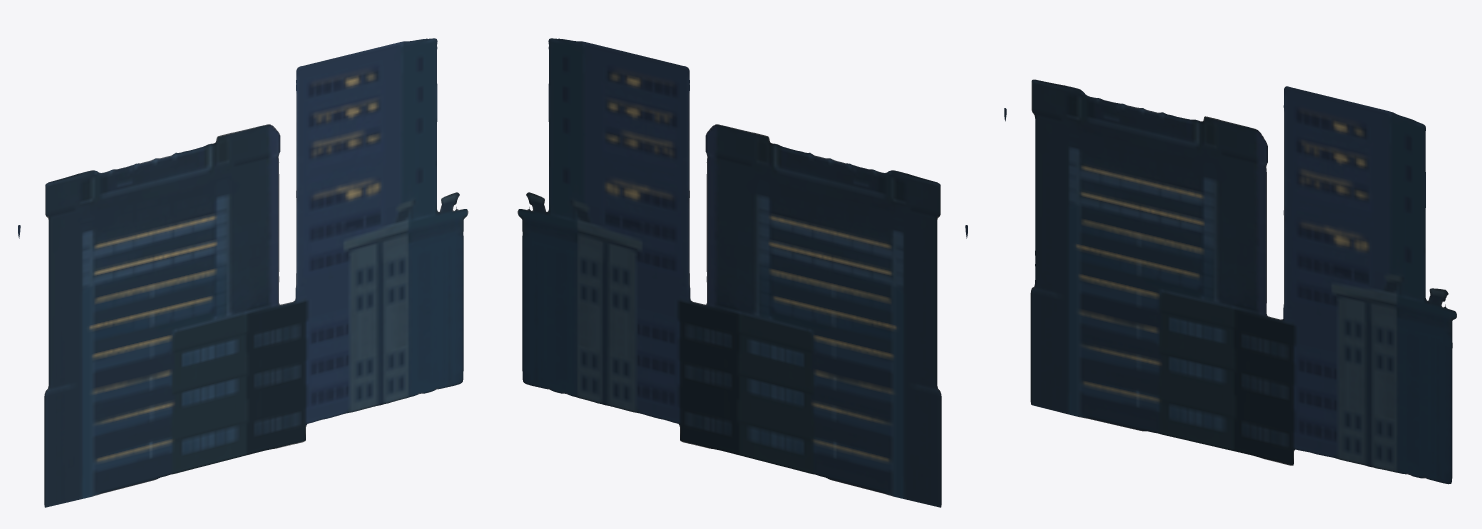
The model's file is HuBian_NightFangzi8_fbx.FBX.
The picture shows the model from 3 angles, left to right: view 1: azimuth 30°, elevation 25°; view 2: azimuth 150°, elevation 25°; view 3: azimuth 330°, elevation 25°; orthographic projection.
Parts seen in each view (by area): view 1: Object050; view 2: Object050; view 3: Object050.
Boxes of the visible parts, x1,y1,x2,y2 form: Object050: [18, 38, 468, 507]; Object050: [517, 38, 967, 507]; Object050: [1004, 79, 1456, 484].
Size of the model in its own units: 3.02 by 2.44 by 4.43e-07.
Materials: 1 (1 with a texture image).
